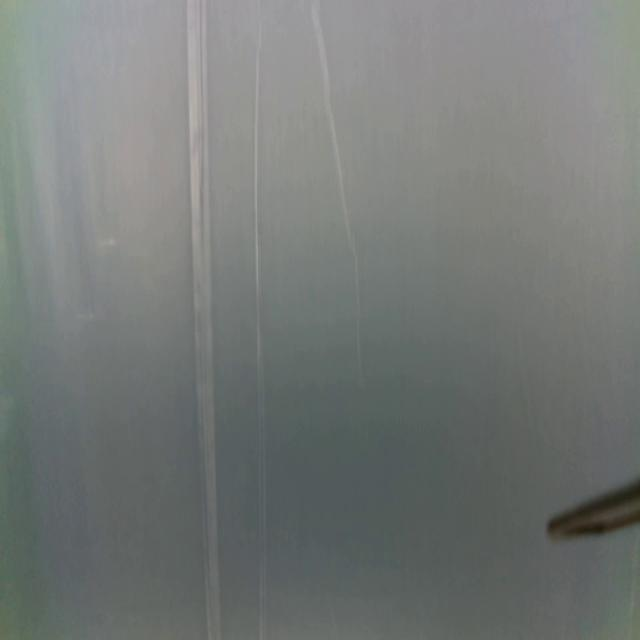crease: (187, 0, 222, 640), (311, 0, 363, 364), (252, 1, 265, 639)
